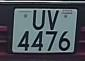4: (16, 29, 32, 53), (30, 30, 45, 53)
6: (58, 30, 72, 52)
7: (44, 30, 60, 53)
U: (31, 9, 47, 32)
V: (45, 9, 61, 32)
